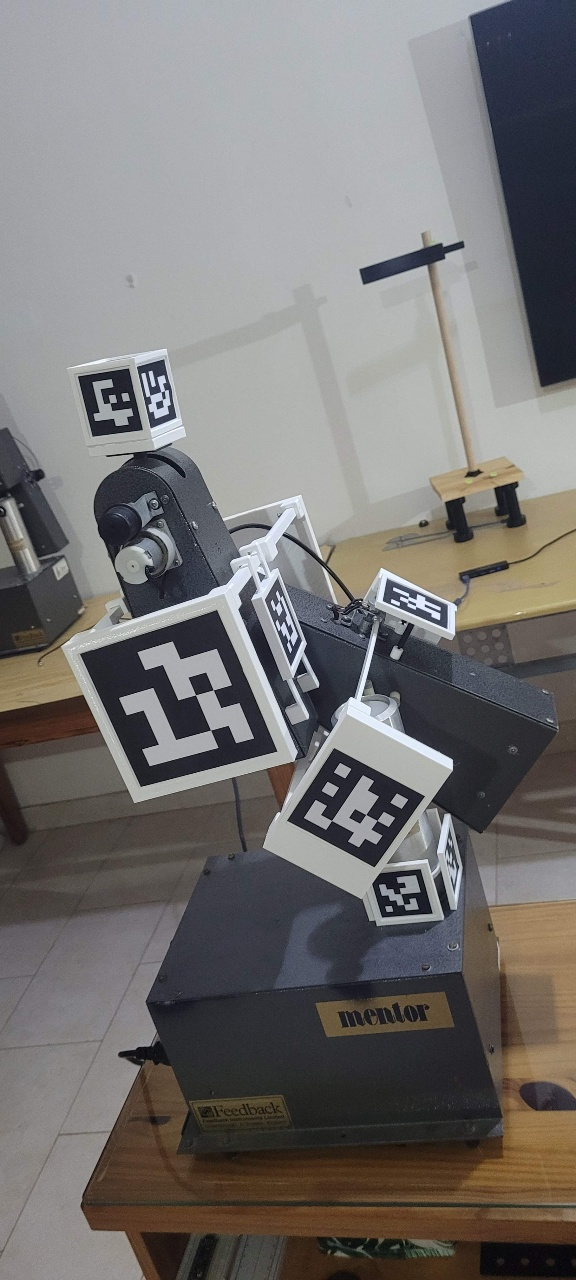Robot: (57, 348, 560, 931)
